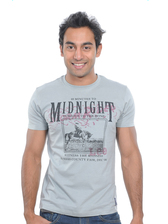clothoes: (25, 71, 138, 216)
